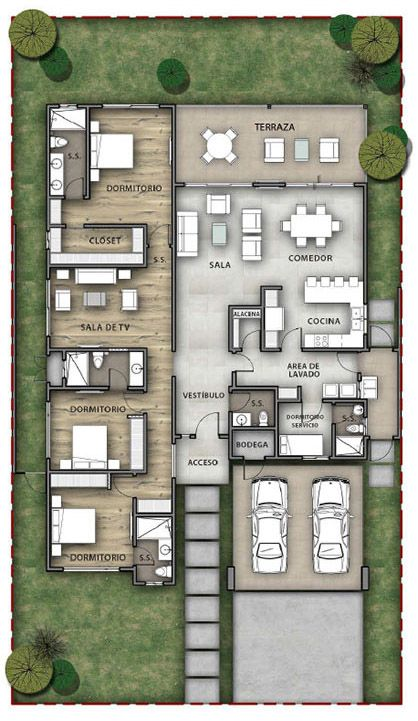door: (192, 410, 222, 432), (294, 402, 324, 424), (367, 440, 392, 461), (281, 326, 303, 348), (236, 351, 256, 374), (241, 325, 261, 347), (232, 391, 253, 411)
room: (86, 104, 176, 227), (47, 470, 136, 571), (47, 385, 145, 474)
